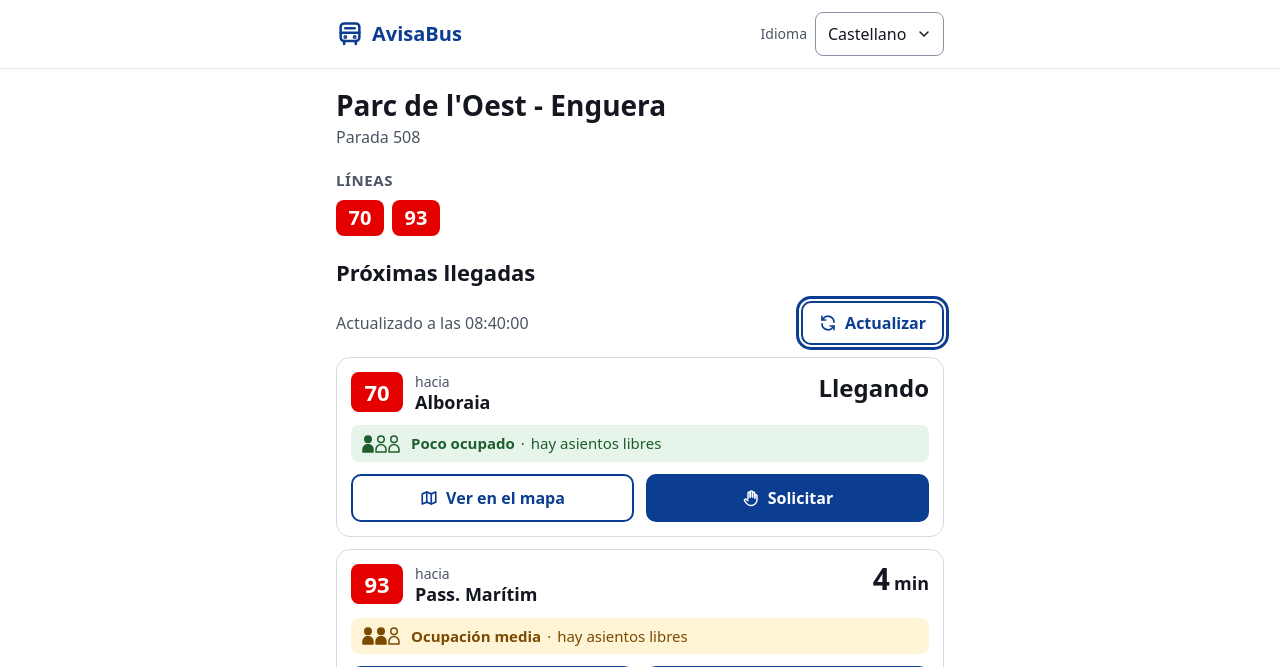
Scenario: StopPage errors and connectivity › [passenger_stop_view.AC-24] a failed "Actualizar" is announced and moves the focus to "Reintentar" (es)
Click the button "Actualizar".
click(873, 323)  # box [801,301,944,345]
Wait 3200 ms
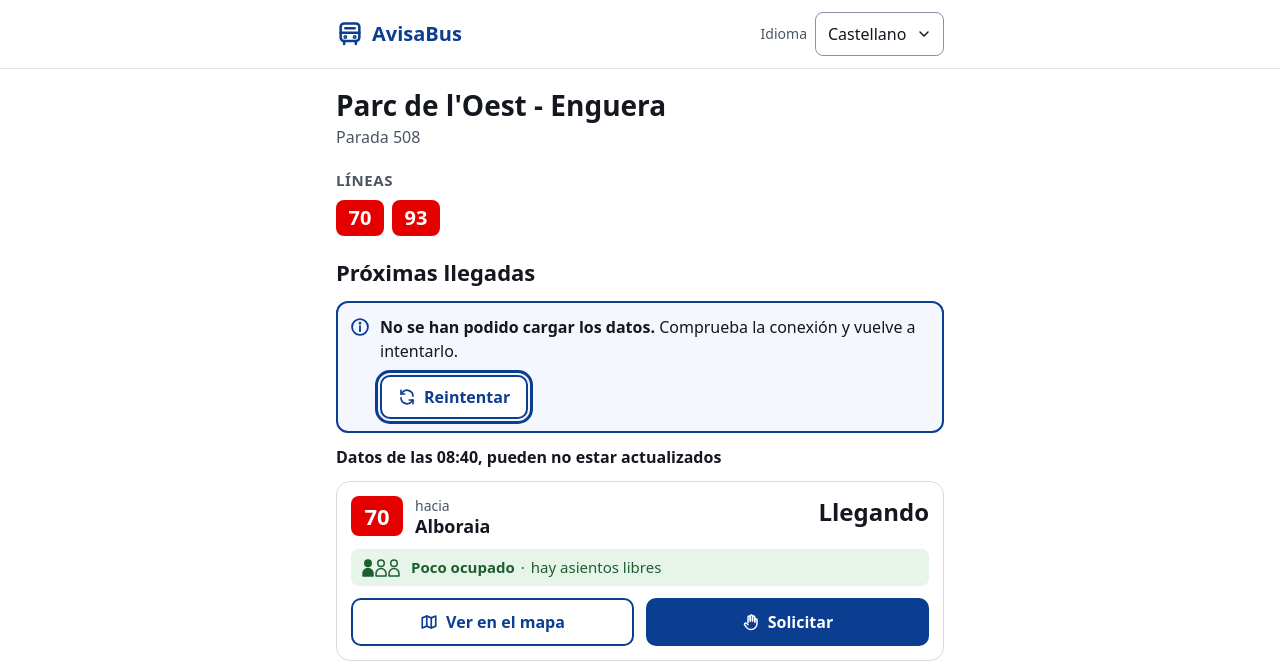
Result: the button "Actualizar" is gone
